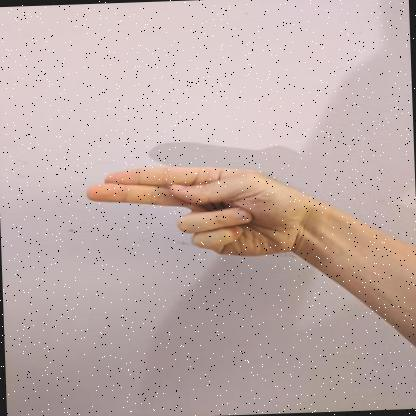H: (86, 166, 312, 259)
